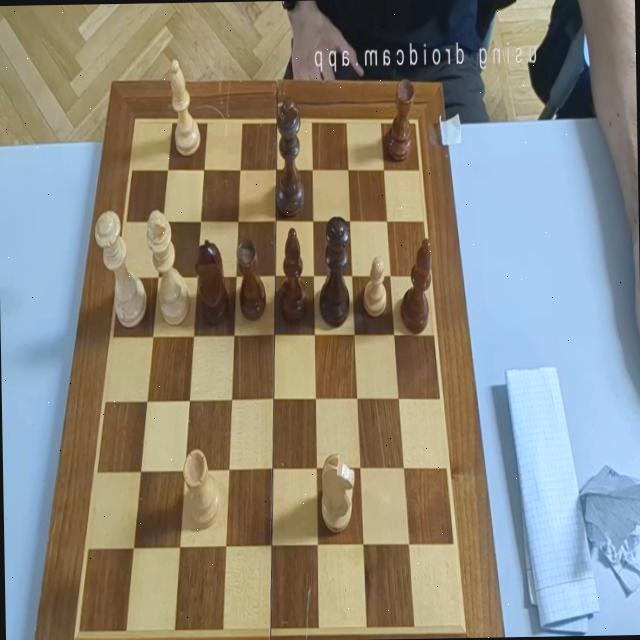black_bishop: (399, 238, 433, 336), (278, 227, 306, 326)
black_king: (274, 96, 304, 217)
black_knight: (193, 238, 230, 327)
black_queen: (317, 215, 351, 328)
black_rook: (384, 78, 416, 164), (236, 238, 266, 320)
white_bishop: (170, 58, 202, 157)
white_king: (145, 208, 190, 326)
white_knight: (320, 452, 356, 534)
white_pawn: (362, 255, 387, 318)
white_queen: (94, 209, 146, 329)
white_rook: (182, 448, 222, 529)
